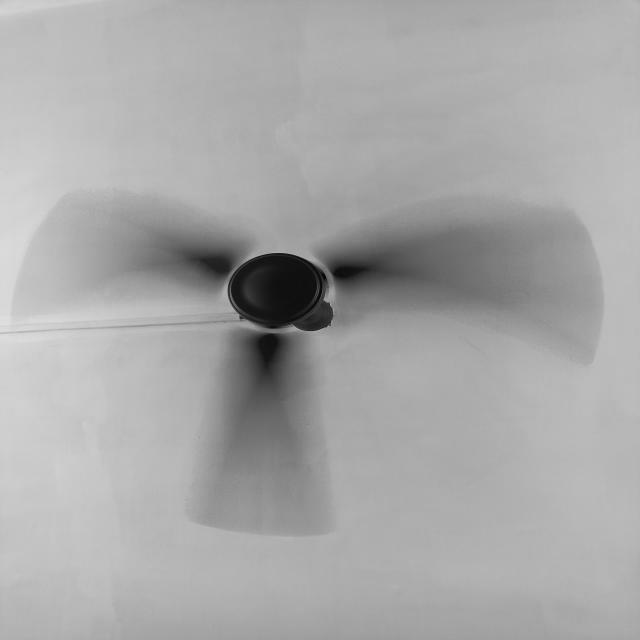fan: (16, 156, 608, 535)
